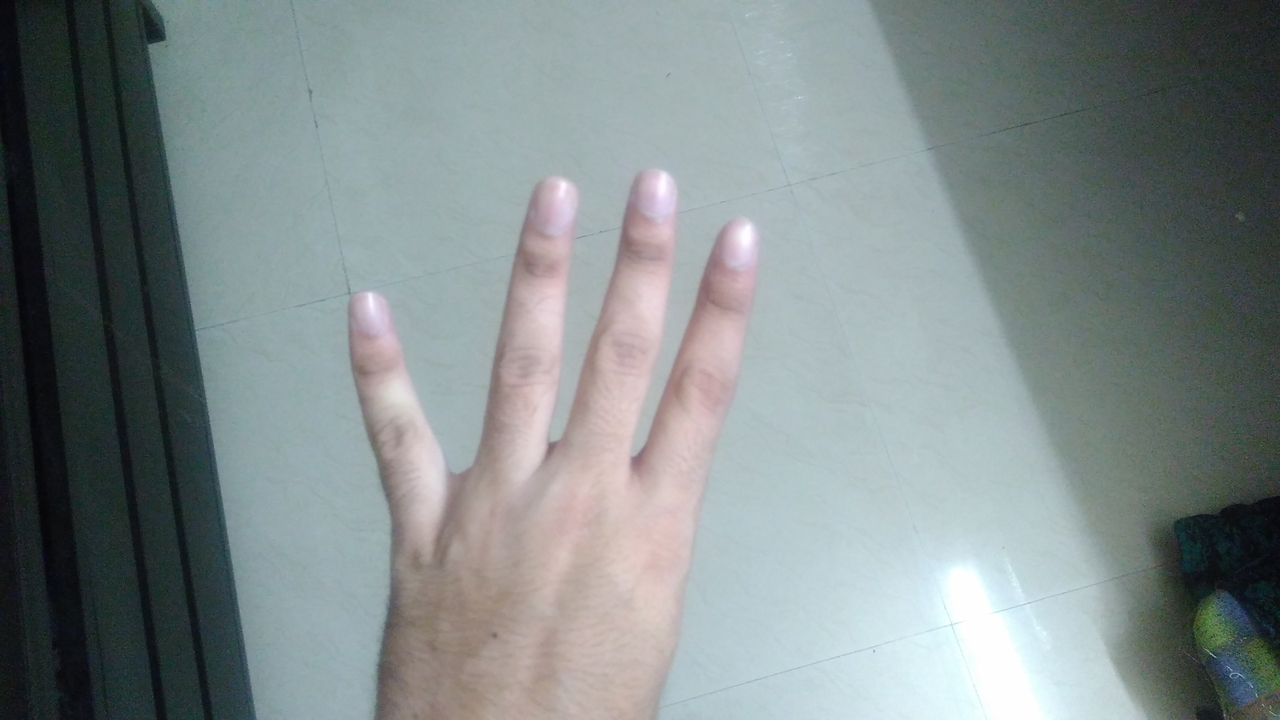fingertip: (518, 166, 588, 228), (704, 208, 768, 274), (342, 282, 402, 350), (620, 160, 684, 222)
